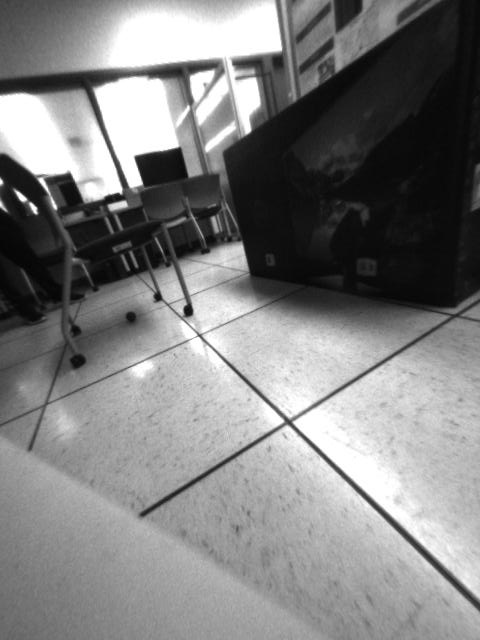dogtoy: (119, 304, 142, 329)
